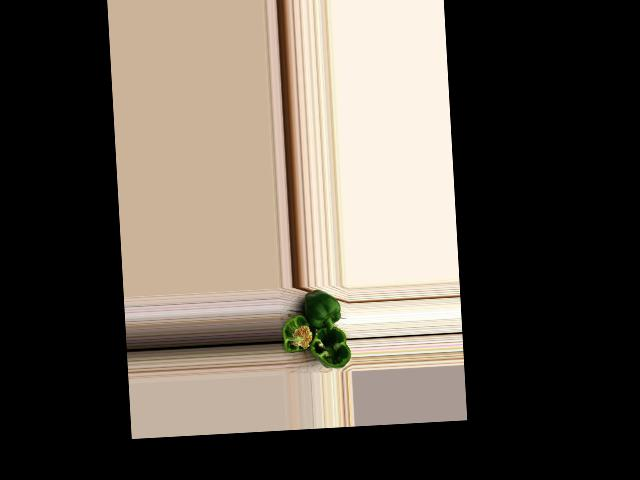bell_pepper: (281, 311, 316, 361)
